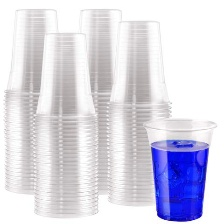glass: (102, 17, 189, 209), (30, 27, 100, 222), (0, 4, 66, 195), (73, 5, 134, 199), (140, 114, 224, 224)
